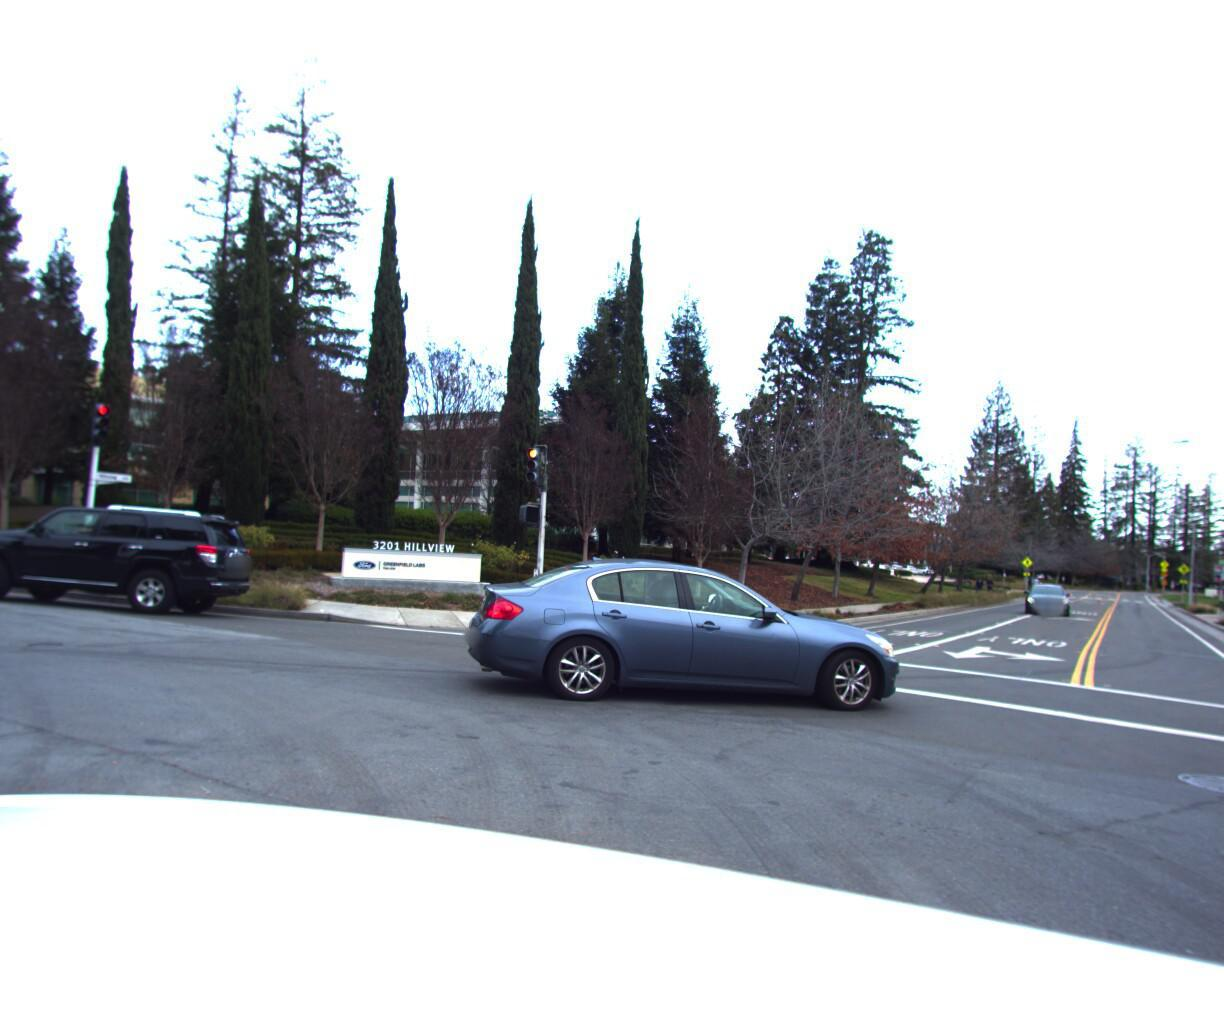car: (446, 530, 916, 709), (0, 492, 268, 621), (1019, 583, 1068, 620)
